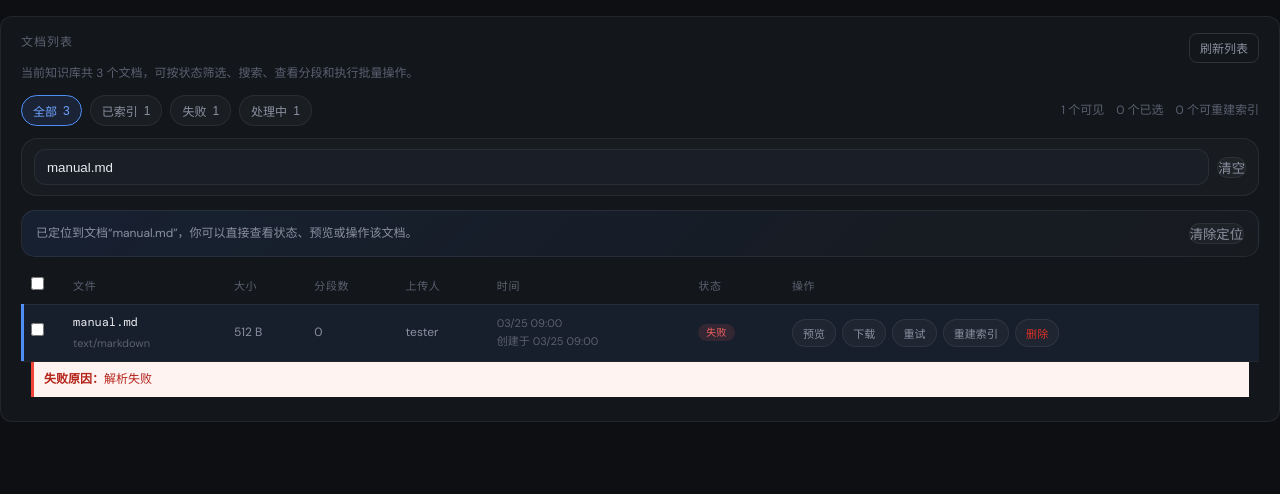
Test: DocumentTable › clears highlighted document state after the locate banner is dismissed
Expected: the element with class "doc-highlight-banner" is shown, 21,210 -> 1259,257
Expected: the field with class "doc-search-input" holds "manual.md", 34,149 -> 1209,185
Click the button with class "doc-highlight-btn": point(1216, 234) 1189,223 -> 1244,244
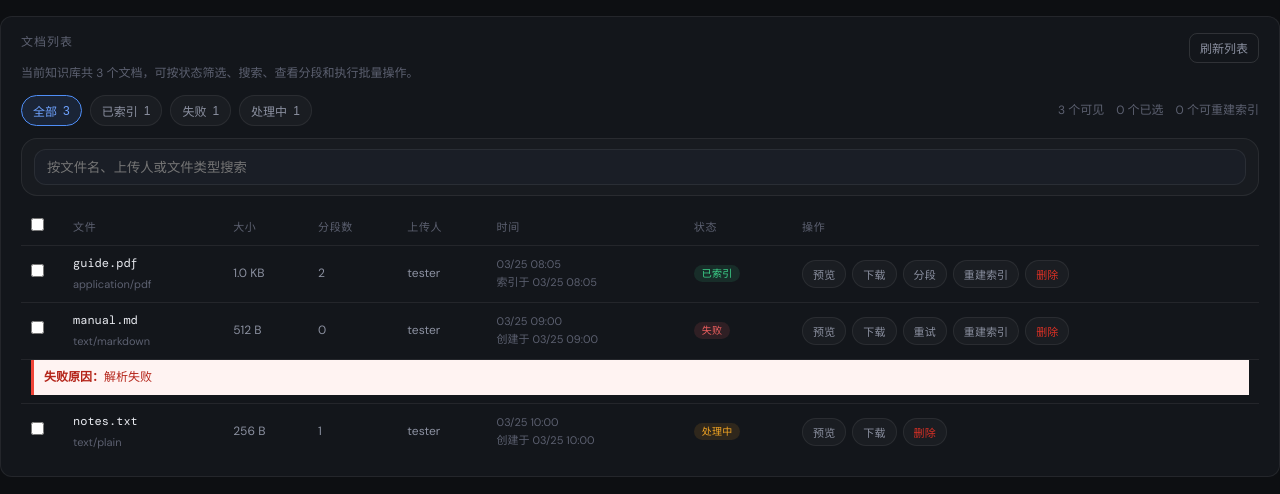
Now the field with class "doc-search-input" is empty, box 34,149 -> 1246,185
